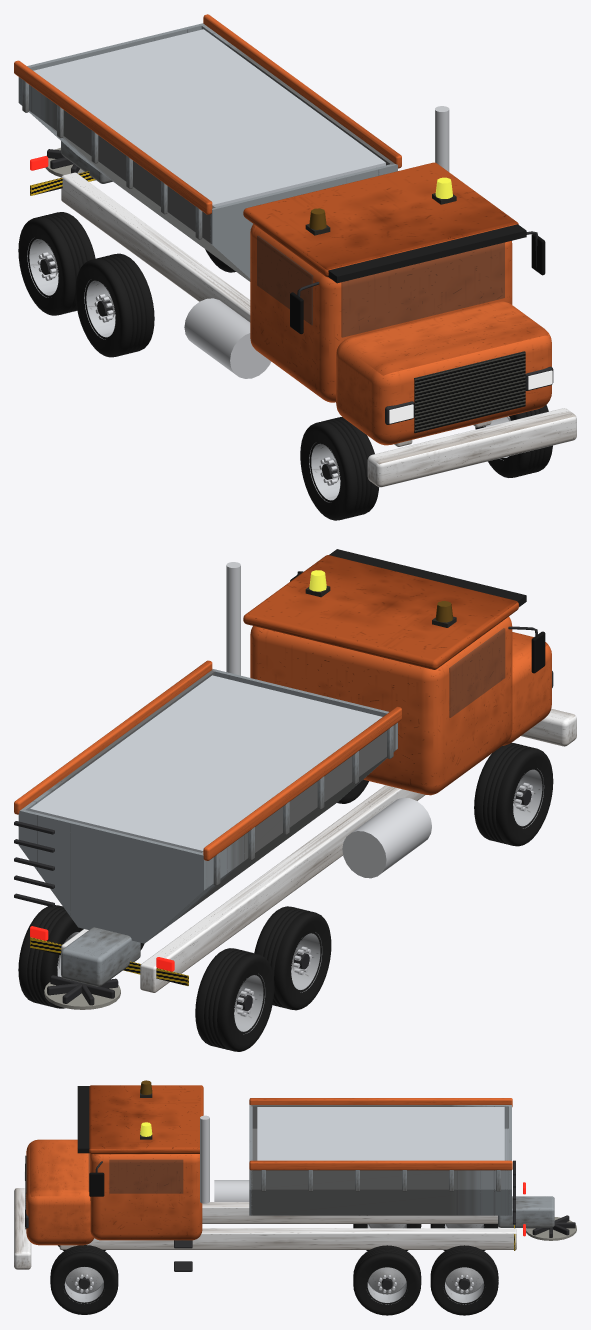
File: salttruck_reference.glb
The picture shows the model from 3 angles, top to bottom: view 1: azimuth 30°, elevation 25°; view 2: azimuth 150°, elevation 25°; view 3: azimuth 270°, elevation 25°; orthographic projection. The views are drawn at different scales.
Visible parts, largest first — view 1: body, salt, wheel_2_right, wheel_1_right, wheel_3_right, wheel_1_left; view 2: body, salt, wheel_3_right, wheel_1_right, wheel_2_right, wheel_3_left, spinner; view 3: body, salt, wheel_2_left, wheel_3_left, wheel_1_left, spinner, wheel_2_right, wheel_3_right.
Part boxes in pixels (left/top/right/bottom): body: left=14, top=14, right=576, bottom=487; salt: left=33, top=29, right=385, bottom=206; wheel_2_right: left=75, top=253, right=154, bottom=357; wheel_1_right: left=300, top=417, right=378, bottom=520; wheel_3_right: left=18, top=212, right=95, bottom=315; wheel_1_left: left=475, top=405, right=552, bottom=477; body: left=14, top=549, right=576, bottom=992; salt: left=30, top=675, right=382, bottom=852; wheel_3_right: left=195, top=948, right=274, bottom=1051; wheel_1_right: left=474, top=742, right=553, bottom=846; wheel_2_right: left=254, top=906, right=331, bottom=1010; wheel_3_left: left=18, top=905, right=83, bottom=1008; spinner: left=44, top=975, right=120, bottom=1009; body: left=14, top=1080, right=554, bottom=1271; salt: left=257, top=1107, right=504, bottom=1160; wheel_2_left: left=353, top=1245, right=421, bottom=1315; wheel_3_left: left=430, top=1245, right=498, bottom=1315; wheel_1_left: left=50, top=1245, right=118, bottom=1314; spinner: left=526, top=1215, right=576, bottom=1240; wheel_2_right: left=353, top=1224, right=421, bottom=1250; wheel_3_right: left=430, top=1224, right=498, bottom=1250.
Bounding box in the file's own units: 3.11 × 3.55 × 9.11.
Materials: 21 (7 with a texture image).
